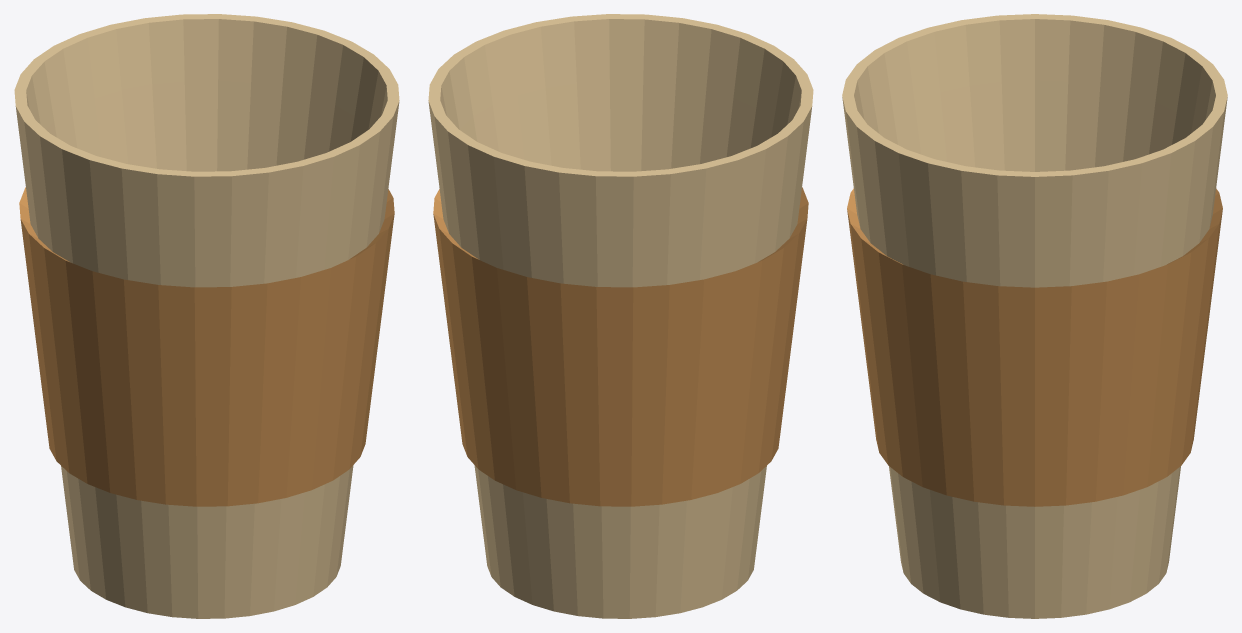
Rendered from Latte_Cup_Machine.fbx.
The picture shows the model from 3 angles, left to right: view 1: azimuth 30°, elevation 25°; view 2: azimuth 150°, elevation 25°; view 3: azimuth 270°, elevation 25°; orthographic projection.
Visible parts, largest first — view 1: Cylinder; view 2: Cylinder; view 3: Cylinder.
Part boxes in pixels (x1=…): Cylinder: x1=14, y1=14, x2=399, y2=618; Cylinder: x1=428, y1=14, x2=813, y2=618; Cylinder: x1=842, y1=14, x2=1227, y2=618.
Bounding box in the file's own units: 20.4 × 27.24 × 20.4.
